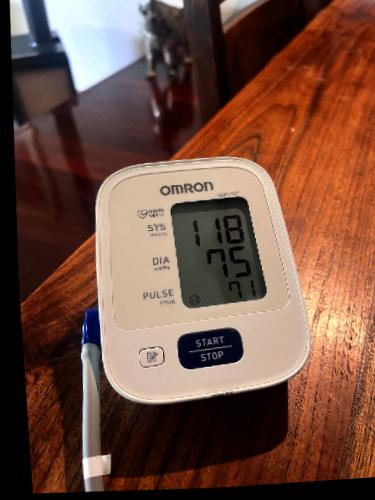bpm: (168, 192, 269, 311)
